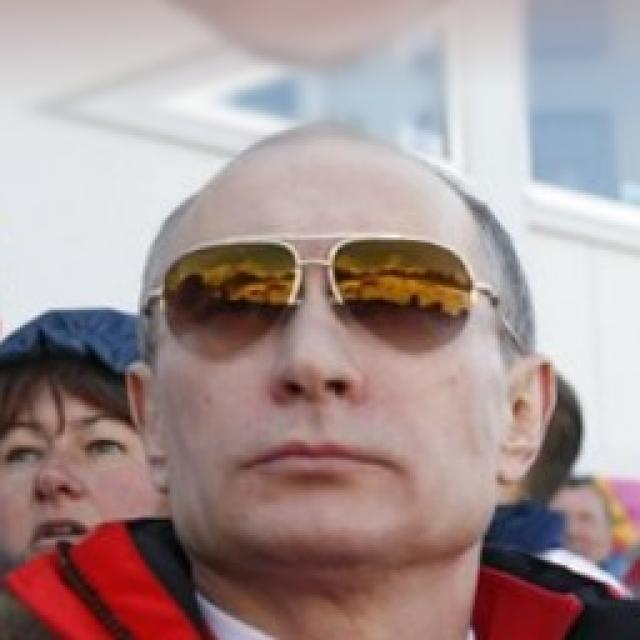glasses: (135, 225, 493, 389)
no-glasses: (2, 420, 140, 474)
